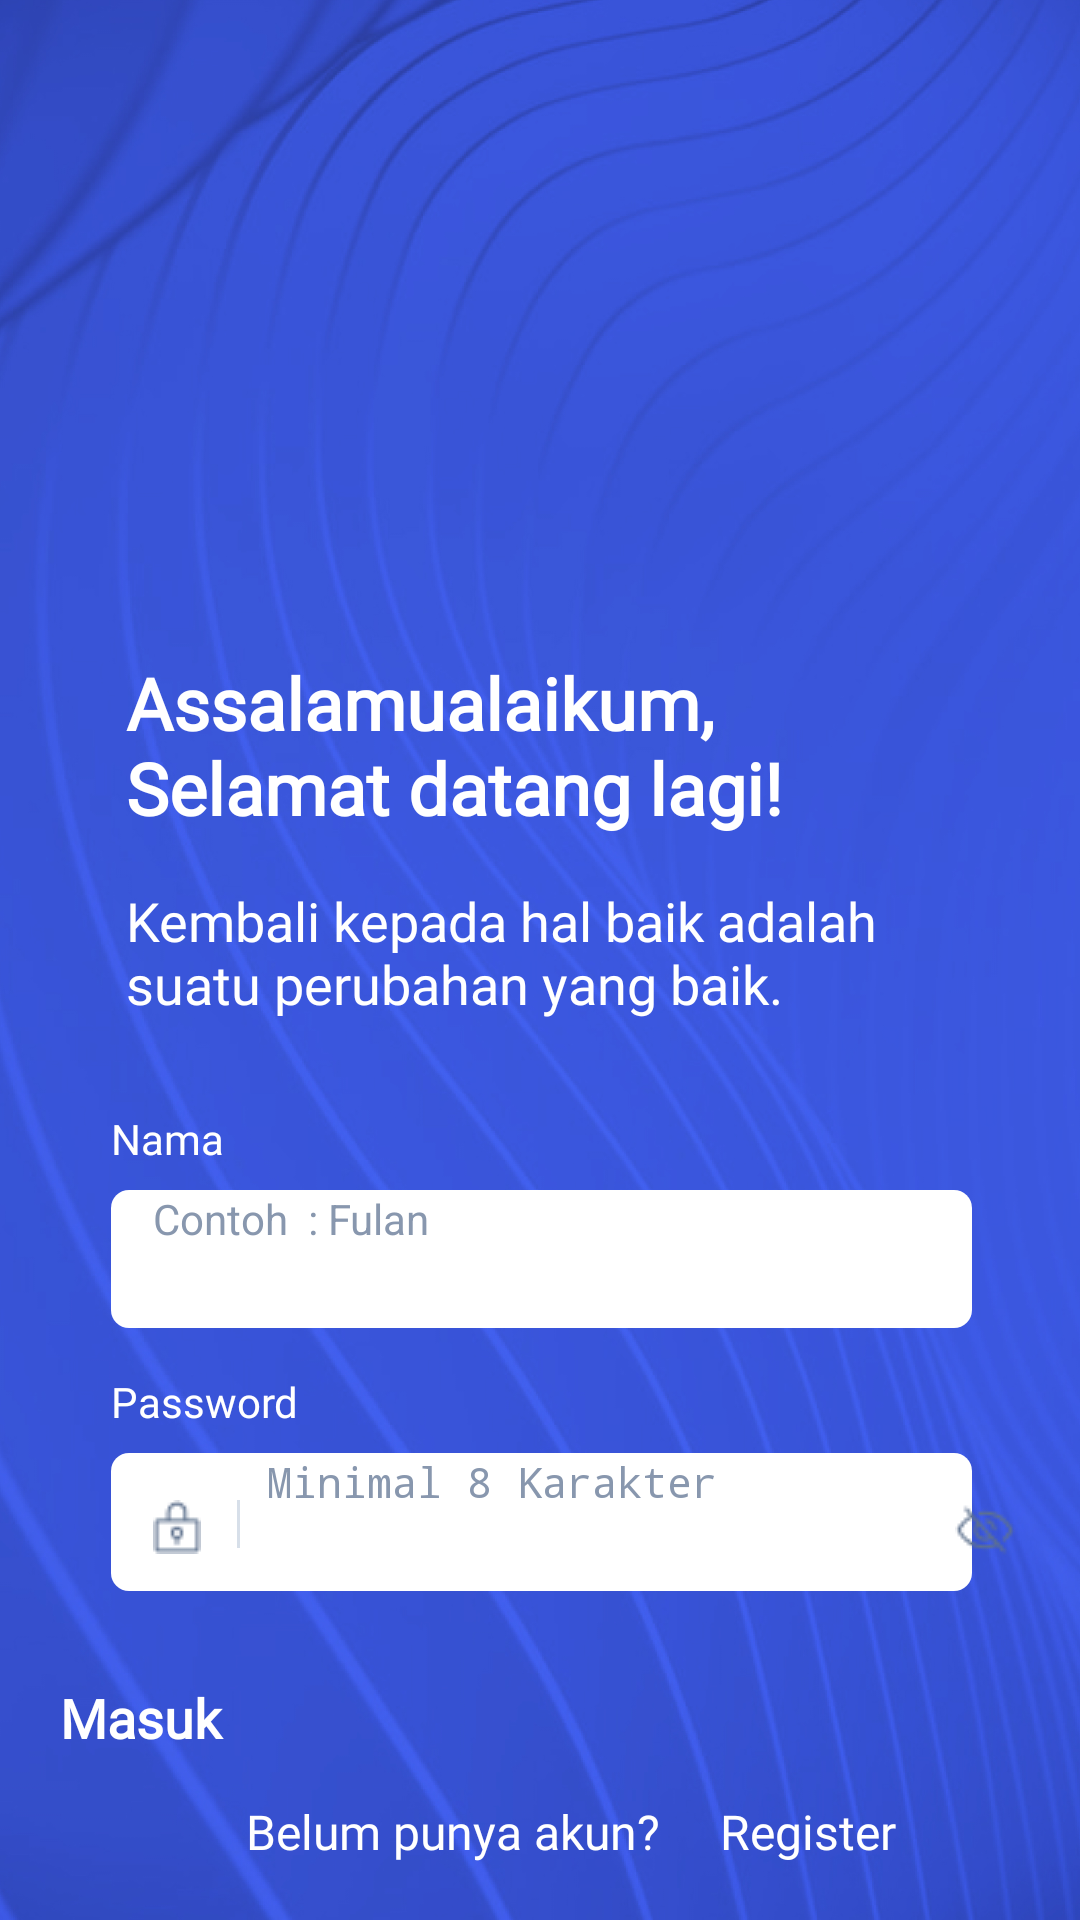

Screen size 1080 x 1920. Icon name, then its center in pixels as (x,y):
eye: (985,1530)
